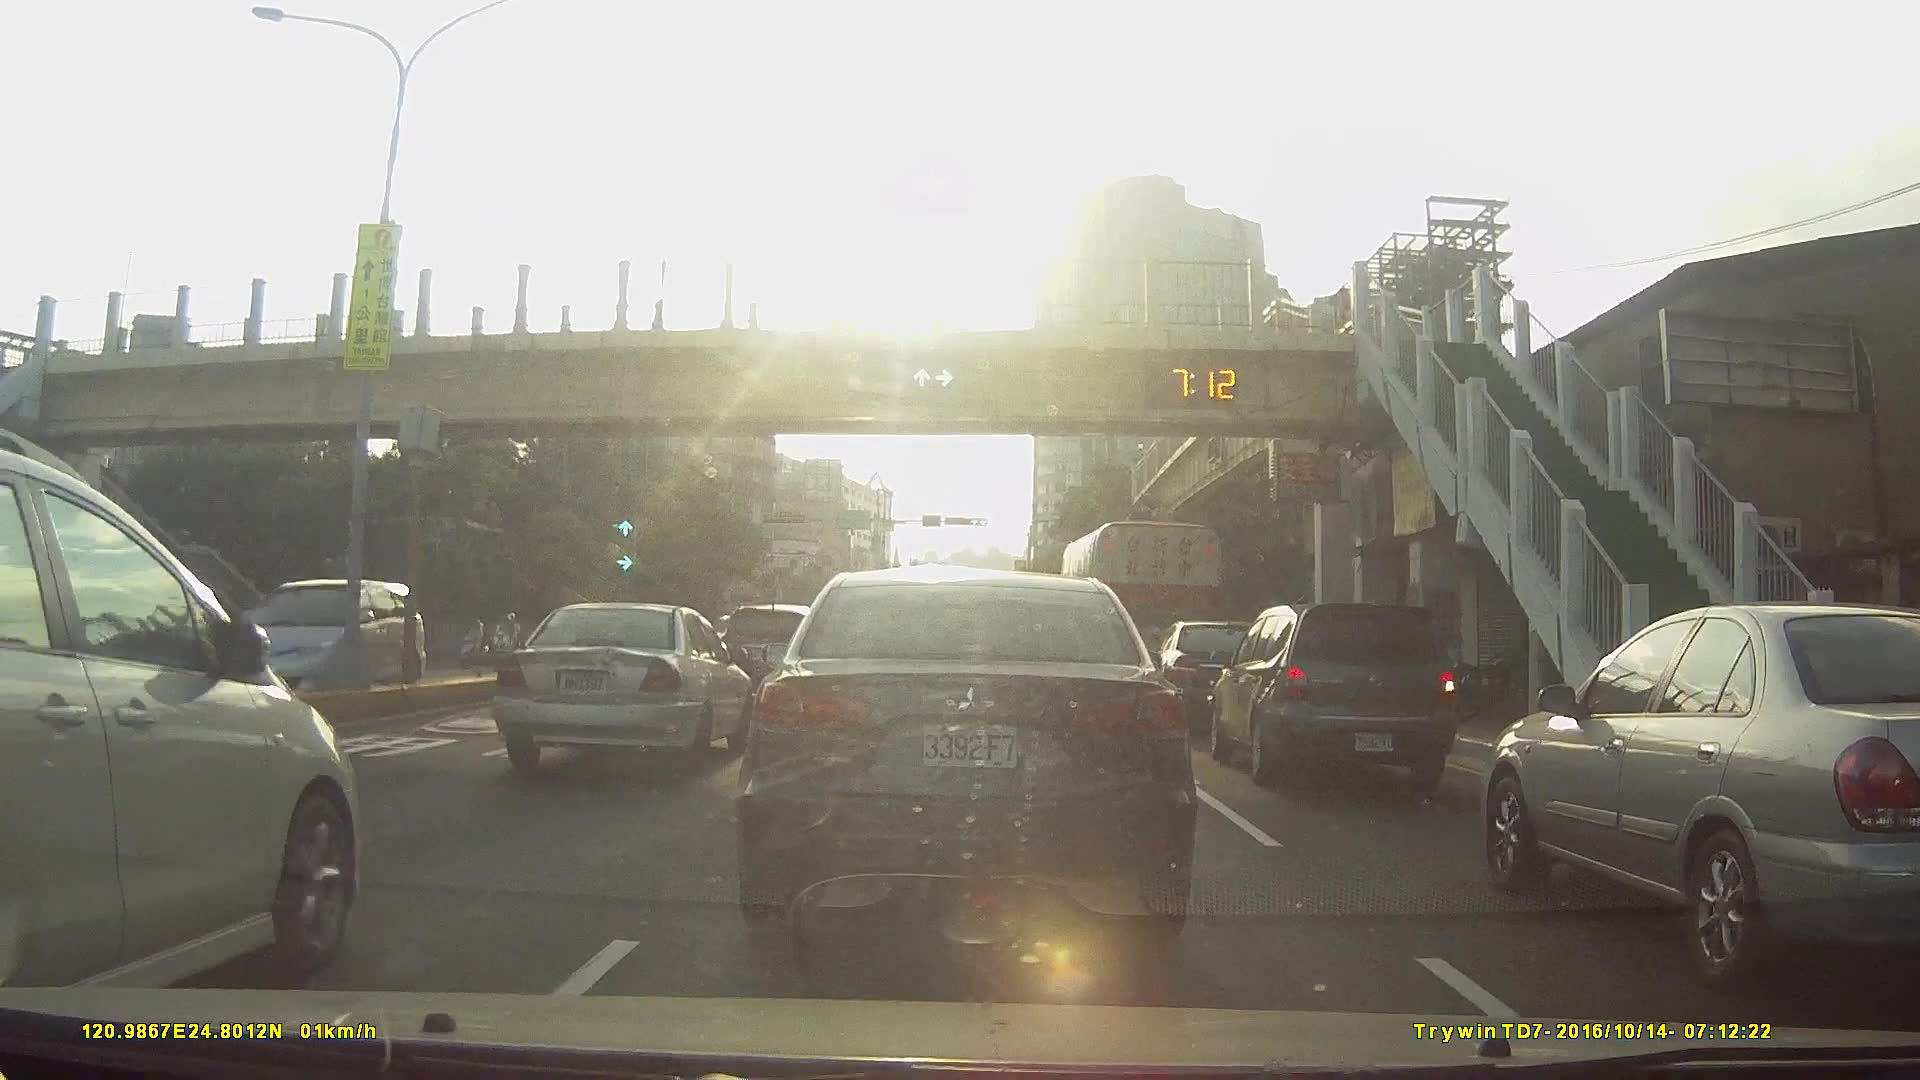rider: (488, 611, 523, 675)
vehicle: (0, 424, 375, 1025), (1486, 600, 1920, 995), (742, 563, 1194, 940), (1209, 600, 1459, 788), (500, 601, 761, 767), (218, 574, 435, 701), (1153, 619, 1283, 726), (715, 599, 822, 706)
